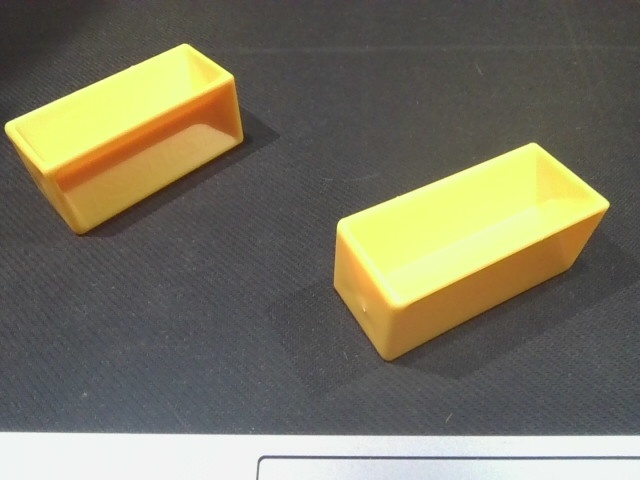YellowSample: (323, 137, 611, 365), (2, 34, 246, 239)
